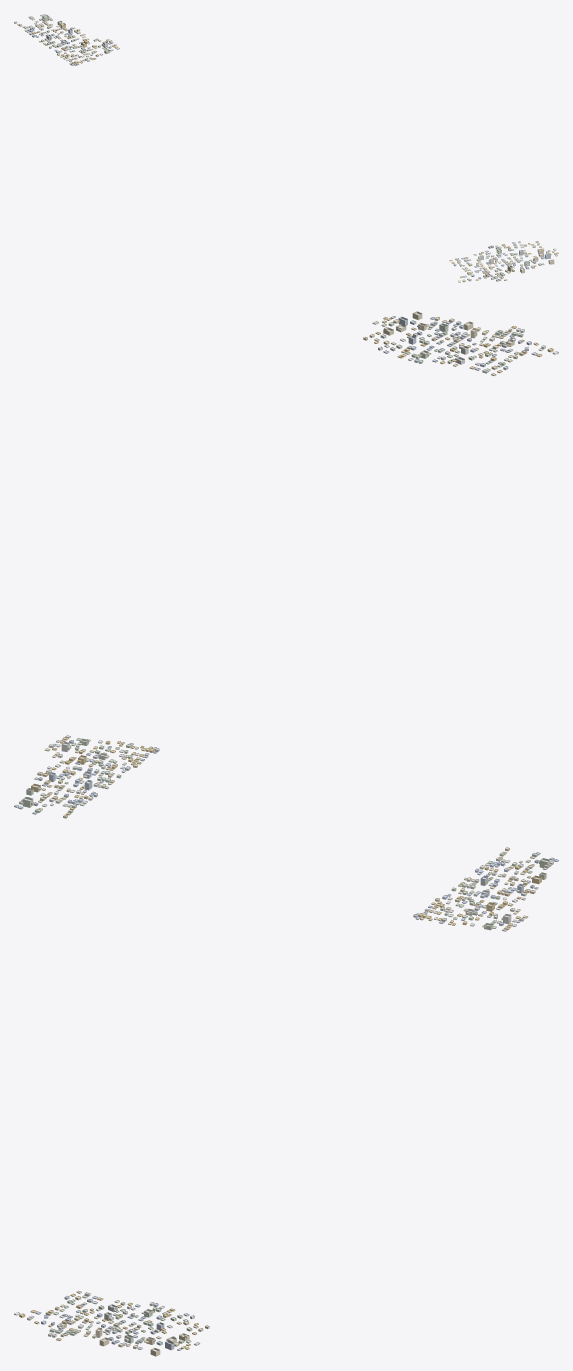
The picture shows the model from 3 angles, top to bottom: view 1: azimuth 30°, elevation 25°; view 2: azimuth 150°, elevation 25°; view 3: azimuth 330°, elevation 25°; orthographic projection. The views are drawn at different scales.
Visible parts, largest first — view 1: house, roof_zinc, apartment; view 2: house, roof_zinc, apartment; view 3: house, roof_zinc, apartment.
Part boxes in pixels (x1,y1,x2,y2): house: [14, 14, 558, 282]; roof_zinc: [14, 14, 558, 281]; apartment: [42, 15, 554, 277]; house: [14, 316, 558, 818]; roof_zinc: [15, 316, 557, 816]; apartment: [22, 311, 514, 807]; house: [14, 847, 558, 1350]; roof_zinc: [15, 848, 557, 1349]; apartment: [59, 858, 550, 1356].
Bounding box in the file's own units: 3.06e+07 × 729805 × 1.18e+08.
